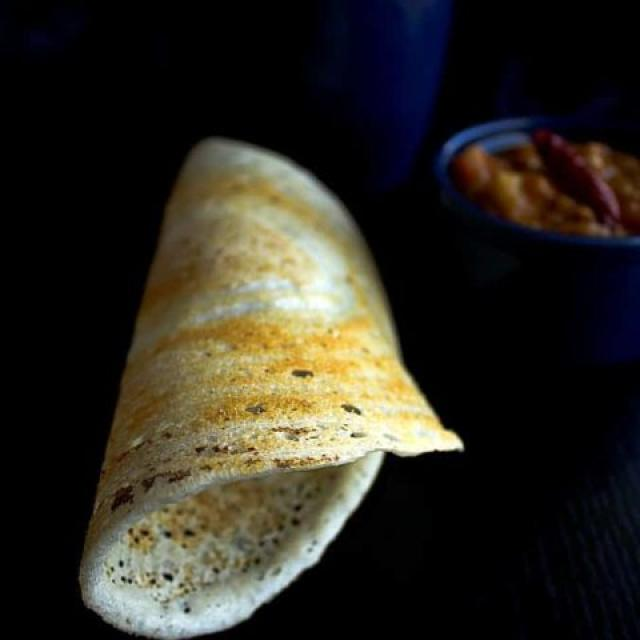Wet Waste: (85, 124, 424, 639)
